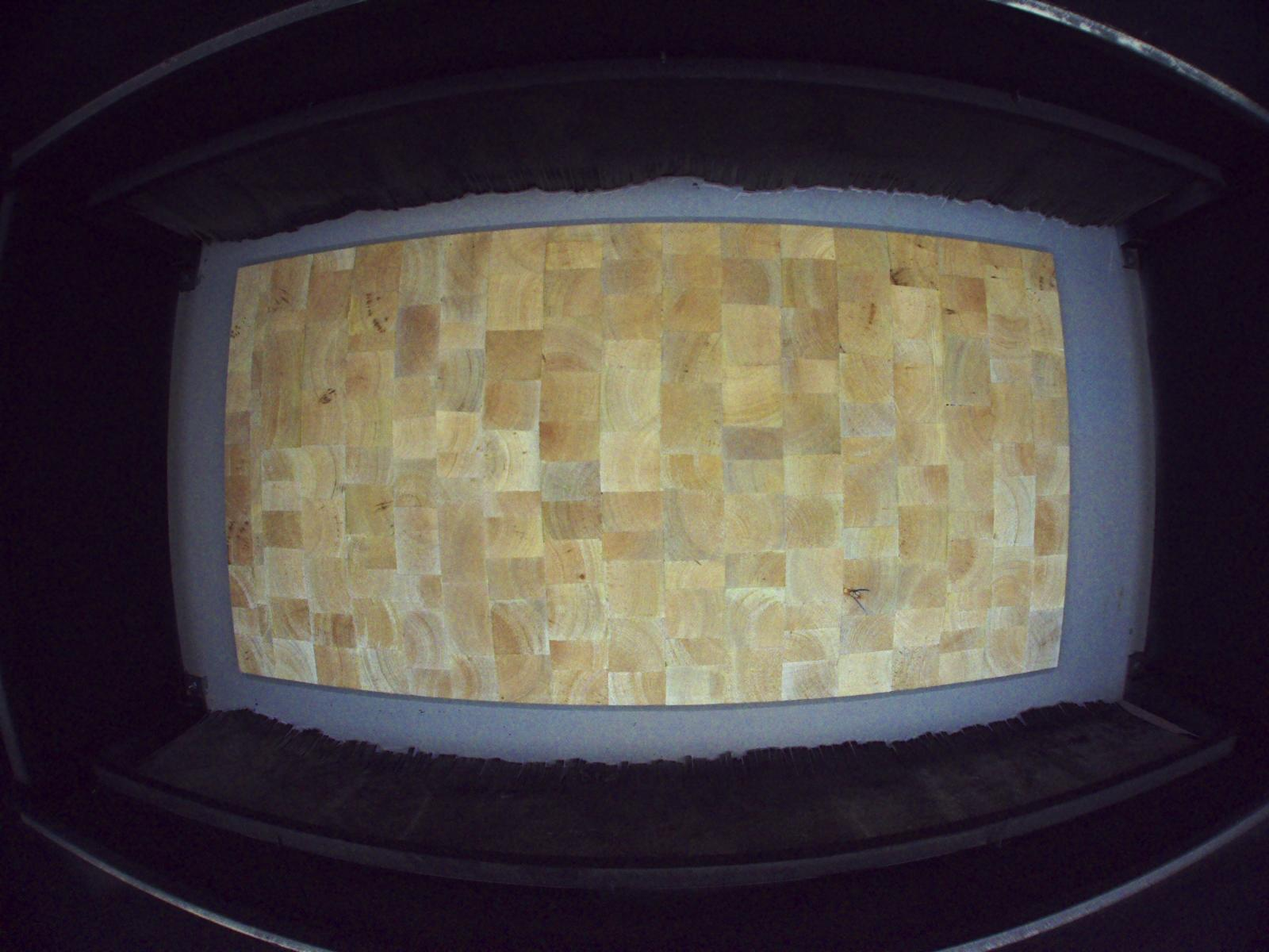nudillo: (842, 586, 864, 601)
